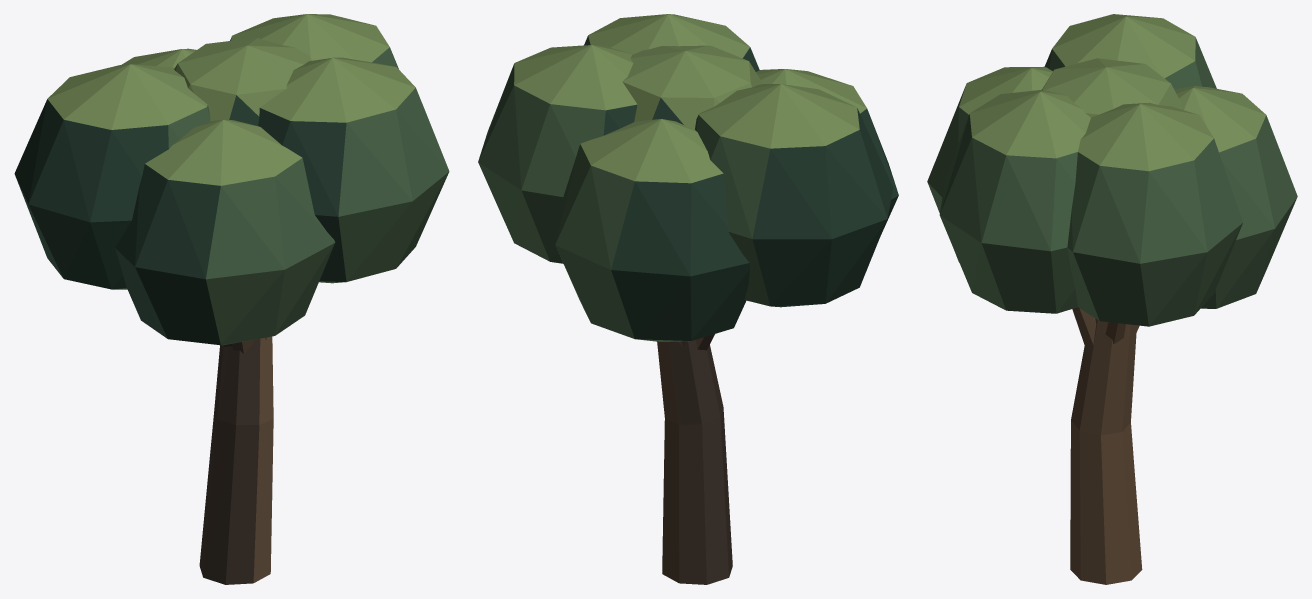
File: TW_TREE_ROUND_BROAD_B_LOD0.glb
3 views of the same model, side by side, from view 1: azimuth 30°, elevation 25°; view 2: azimuth 150°, elevation 25°; view 3: azimuth 270°, elevation 25° (orthographic). The views are drawn at different scales.
Parts seen in each view (by area): view 1: TW_TREE_ROUND_BROAD_B_LOD0; view 2: TW_TREE_ROUND_BROAD_B_LOD0; view 3: TW_TREE_ROUND_BROAD_B_LOD0.
Boxes of the visible parts, bbox=[...] form: TW_TREE_ROUND_BROAD_B_LOD0: bbox=[14, 14, 449, 584]; TW_TREE_ROUND_BROAD_B_LOD0: bbox=[478, 14, 898, 584]; TW_TREE_ROUND_BROAD_B_LOD0: bbox=[927, 14, 1297, 584].
Size of the model in its own units: 2.92 by 3.7 by 2.44.
1 material, 1 textured.
